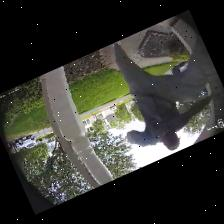person: (112, 41, 211, 149)
